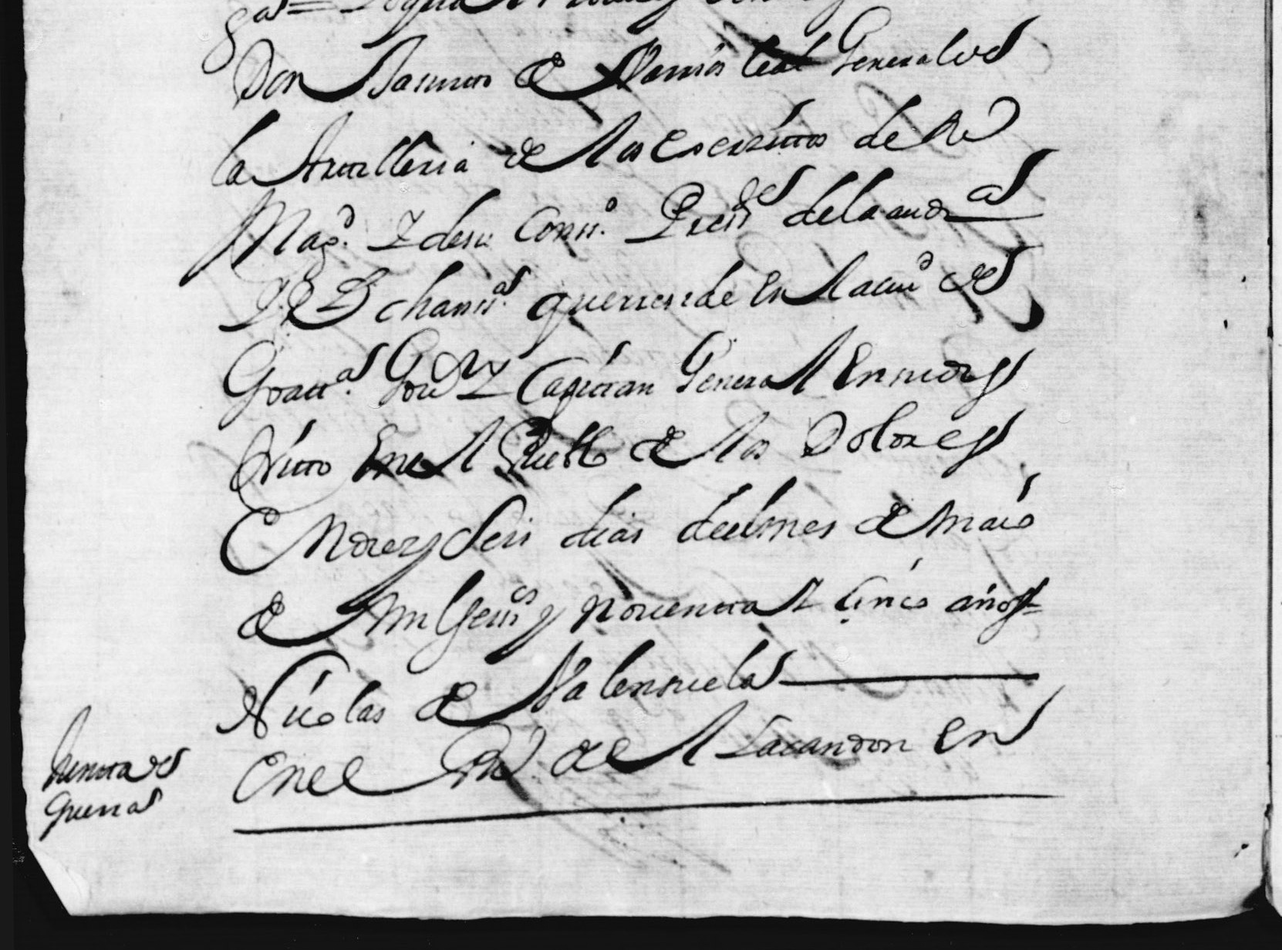lacandon: (714, 714, 912, 759)
